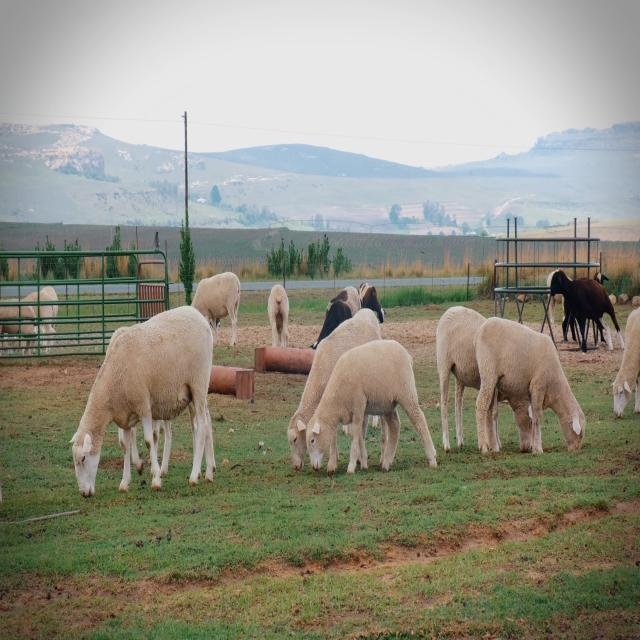sheep: (59, 295, 233, 510), (308, 323, 438, 500), (471, 295, 588, 478), (610, 296, 640, 439)
